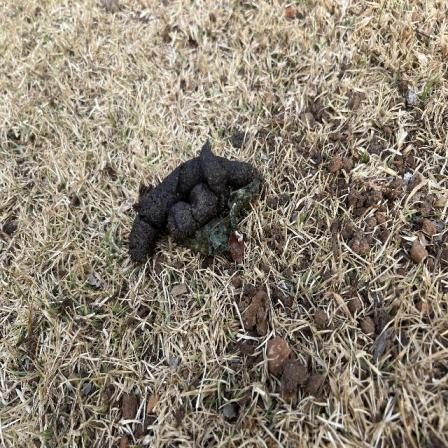dog-poop: (112, 136, 272, 267)
